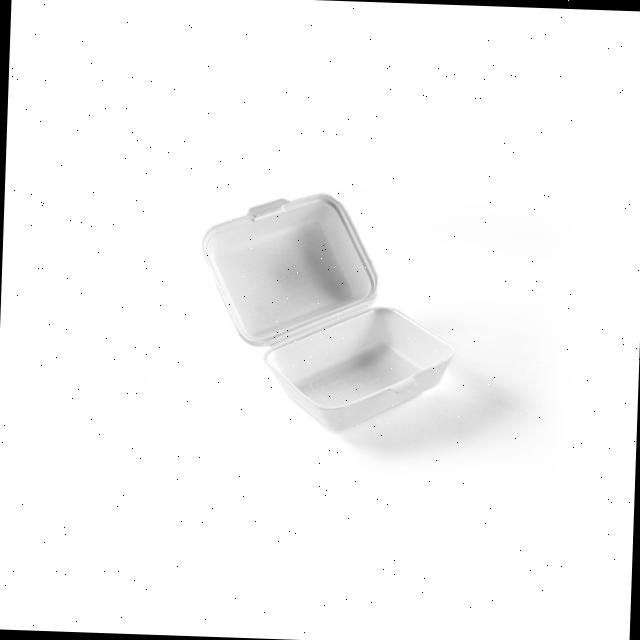styrofoam: (194, 186, 461, 436)
